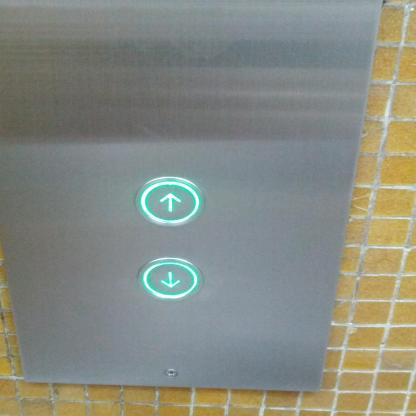down: (134, 255, 205, 303)
up: (132, 174, 208, 229)
